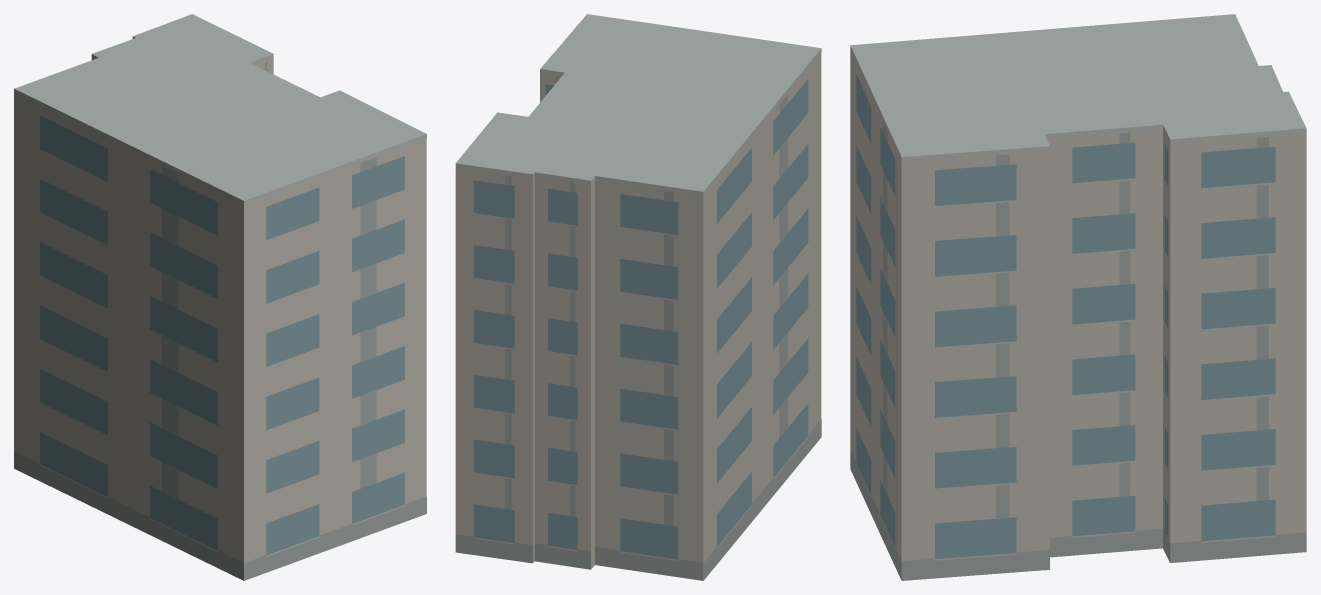
File: survey-upis-32498490.glb
3 views of the same model, side by side, from view 1: azimuth 30°, elevation 25°; view 2: azimuth 150°, elevation 25°; view 3: azimuth 270°, elevation 25° (orthographic). The views are drawn at different scales.
Visible parts, largest first — view 1: survey-upis-32498490.tmp; view 2: survey-upis-32498490.tmp; view 3: survey-upis-32498490.tmp.
Part boxes in pixels (x1=…): survey-upis-32498490.tmp: x1=14, y1=14, x2=426, y2=580; survey-upis-32498490.tmp: x1=455, y1=14, x2=821, y2=580; survey-upis-32498490.tmp: x1=850, y1=14, x2=1306, y2=580.
Size of the model in its own units: 14.07 by 19.39 by 18.93.
